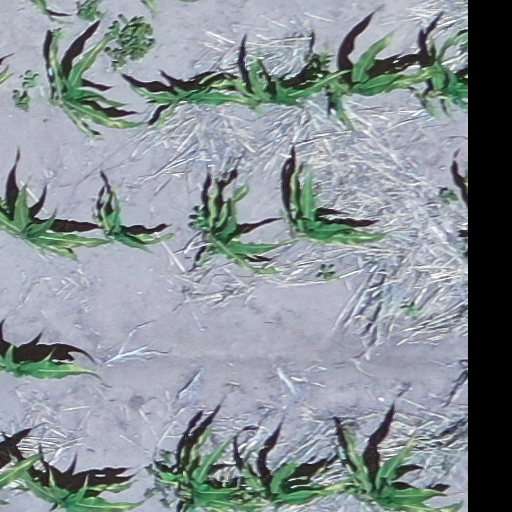planta: (319, 26, 437, 128), (49, 23, 148, 139), (187, 170, 294, 275), (192, 57, 351, 113), (284, 163, 391, 245), (133, 73, 258, 126), (94, 183, 180, 254), (414, 29, 467, 117)
